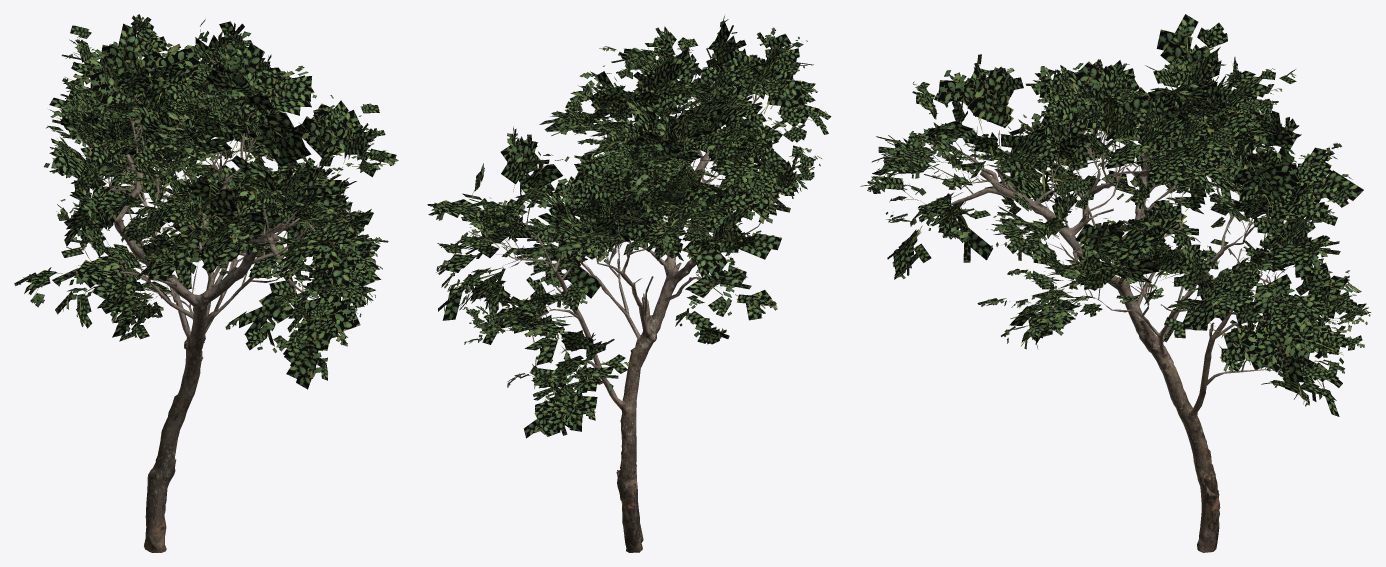
Rendered from tree_small_02.glb.
3 renders of one model, left to right at view 1: azimuth 30°, elevation 25°; view 2: azimuth 150°, elevation 25°; view 3: azimuth 270°, elevation 25°, orthographic. The views are drawn at different scales.
Parts seen in each view (by area): view 1: tree_small_02_LOD0; view 2: tree_small_02_LOD0; view 3: tree_small_02_LOD0.
Part boxes in pixels (x1,y1,x2,y2): tree_small_02_LOD0: (14,14,398,552); tree_small_02_LOD0: (427,15,831,552); tree_small_02_LOD0: (860,14,1370,552).
Bounding box in the file's own units: 3.94 × 6.06 × 5.7.
3 materials, 3 textured.
